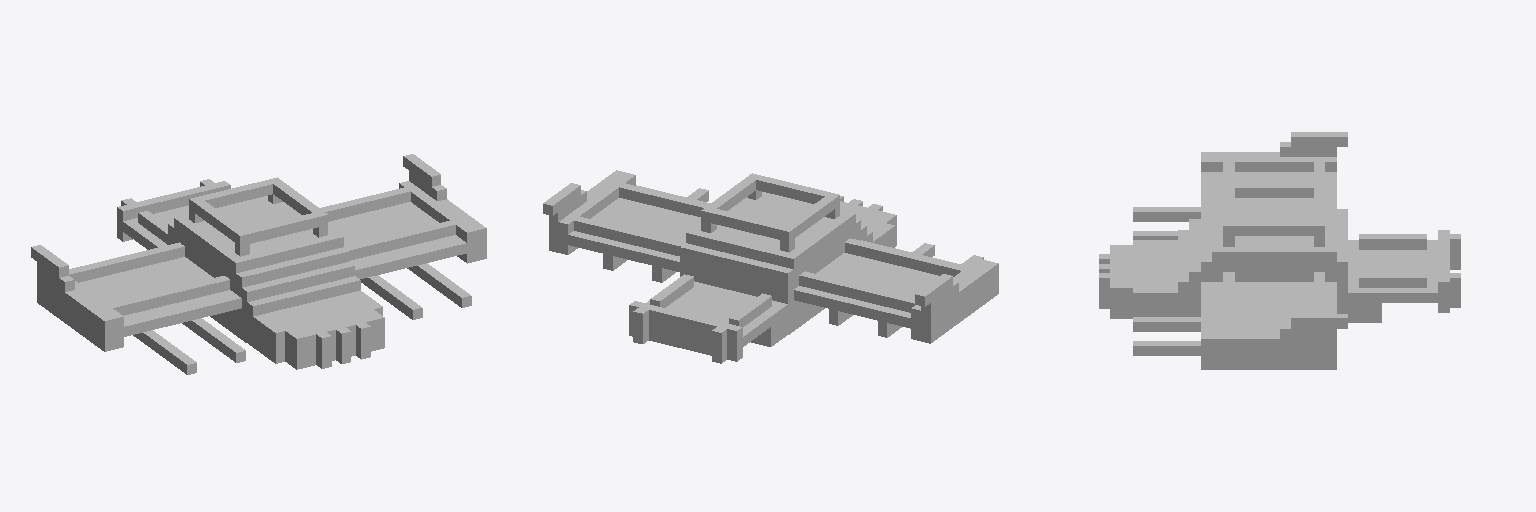
Rendered from Enemy3.2 1.obj.
3 renders of one model, left to right at view 1: azimuth 30°, elevation 25°; view 2: azimuth 150°, elevation 25°; view 3: azimuth 270°, elevation 25°, orthographic.
Size of the model in its own units: 39 by 10 by 32.